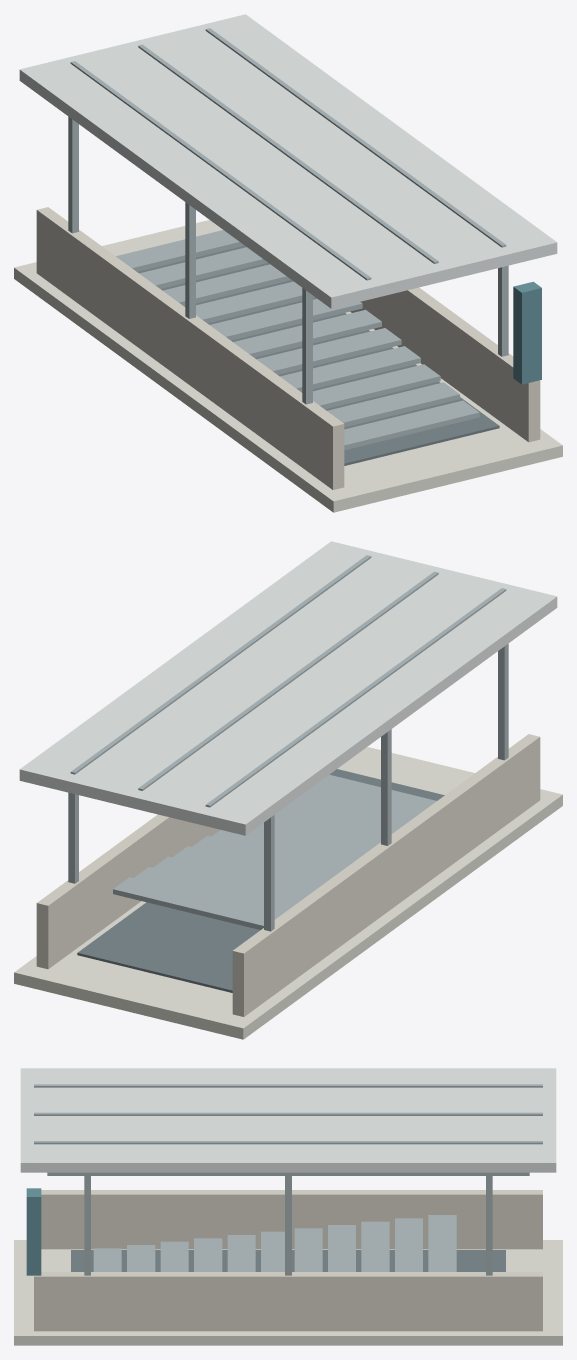
3 renders of one model, top to bottom at view 1: azimuth 30°, elevation 25°; view 2: azimuth 150°, elevation 25°; view 3: azimuth 270°, elevation 25°, orthographic. The views are drawn at different scales.
Visible parts, largest first — view 1: ohori-koen-station; view 2: ohori-koen-station; view 3: ohori-koen-station.
Boxes of the visible parts, x1,y1,x2,y2 form: ohori-koen-station: (14,14,562,512); ohori-koen-station: (14,541,562,1039); ohori-koen-station: (14,1068,562,1345).
Size of the model in its own units: 3.4 by 3.04 by 8.2.
